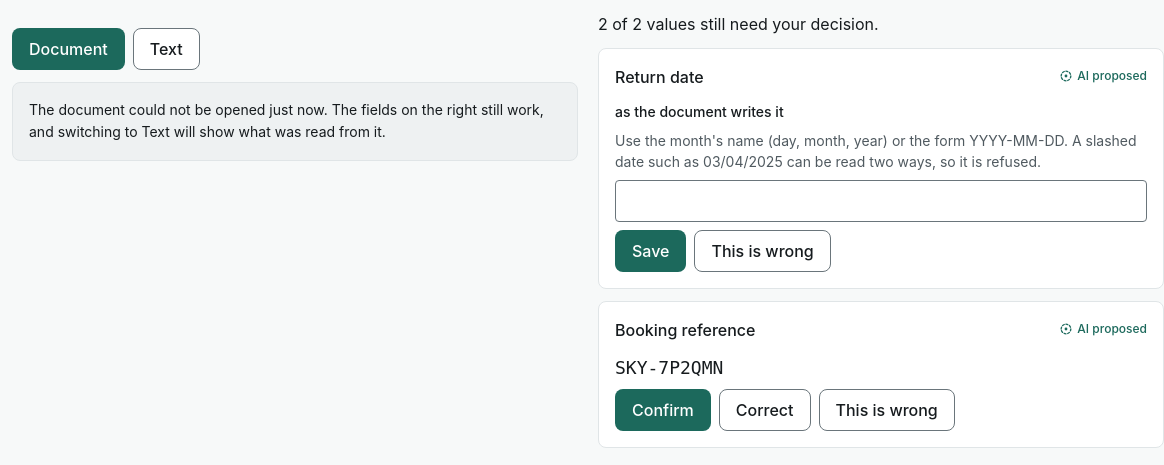
Test: when the server refuses › stops offering to decide a claim someone else already decided
Type "11 May 2026" into the field named "Return date, as the document writes it" at x=881, y=201, box left=615, top=180, right=1147, bottom=222
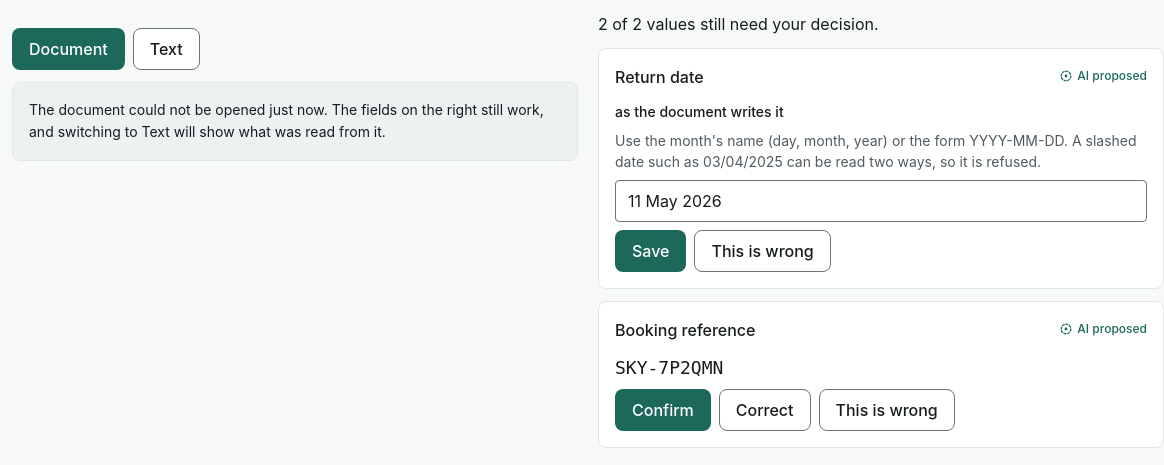
Click the button "Save" at x=651, y=251, box left=615, top=230, right=686, bottom=272
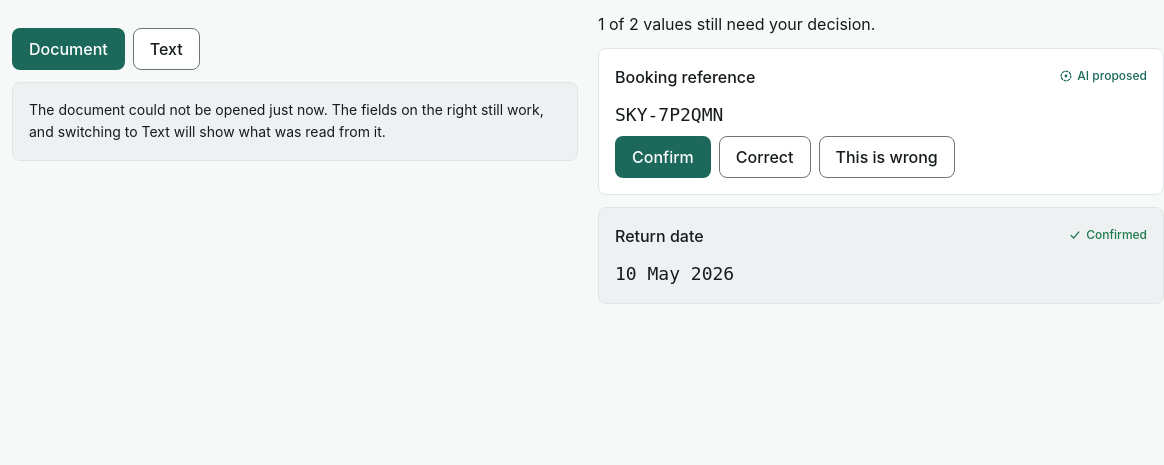
Expected: the text "Confirmed" is shown, left=1086, top=226, right=1147, bottom=244
